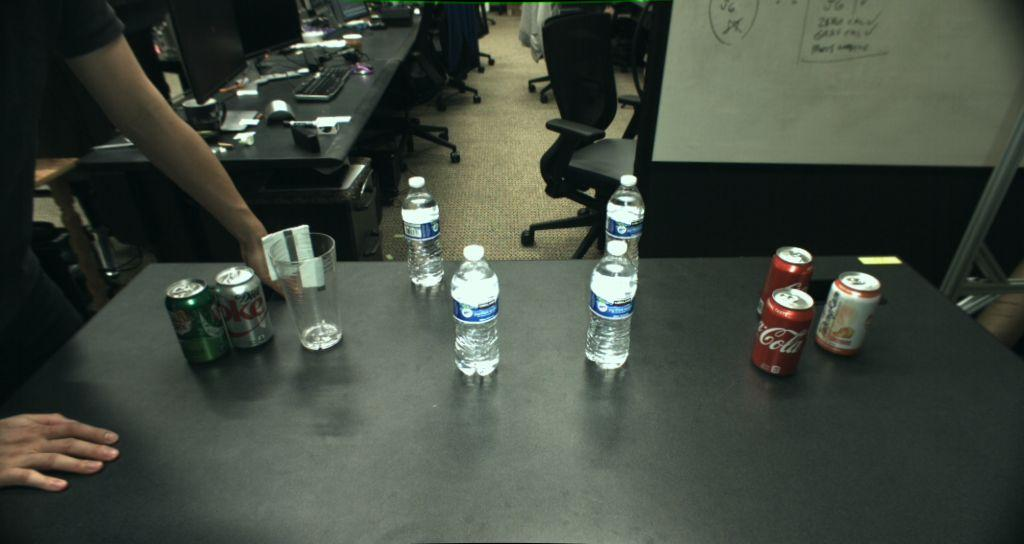can_coke: (751, 287, 814, 374)
can_diet_coke: (212, 266, 274, 348)
can_ginger_ale: (165, 279, 230, 364)
can_talking_rain_peach_nectarine: (817, 271, 880, 355)
water_bottle: (584, 240, 638, 368), (449, 244, 500, 376), (401, 176, 444, 287)
